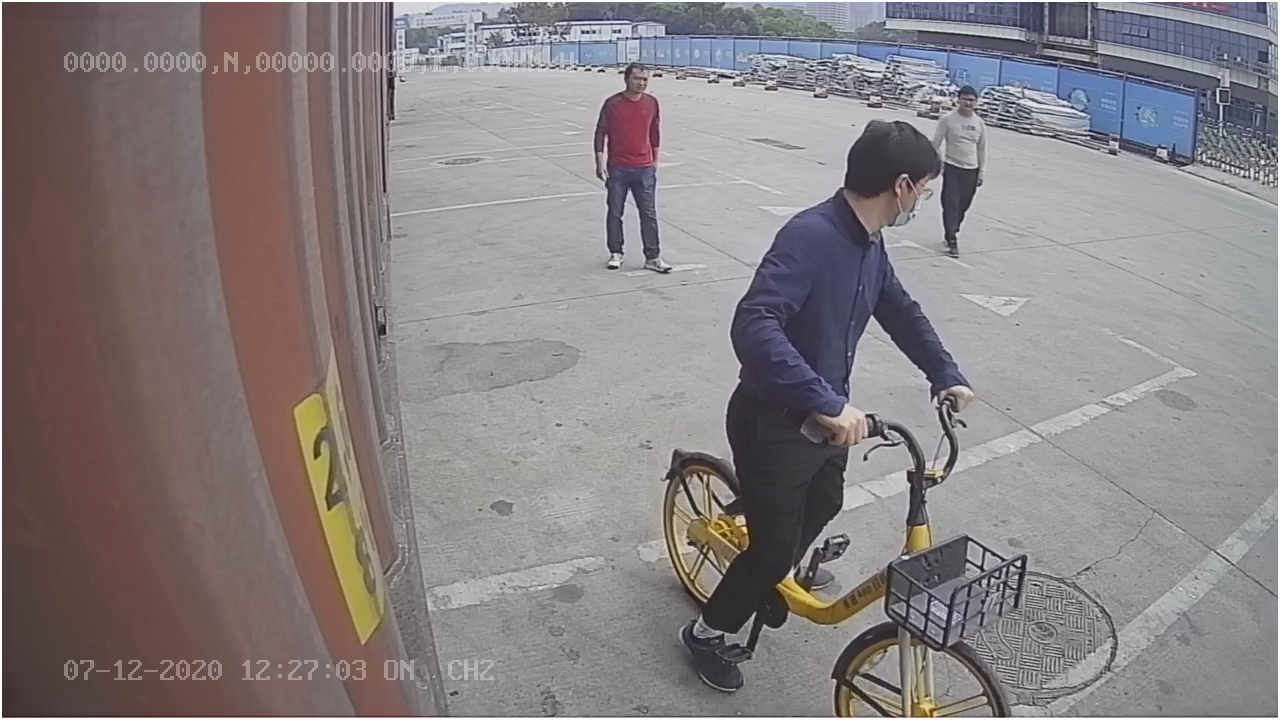person: (585, 58, 679, 276)
